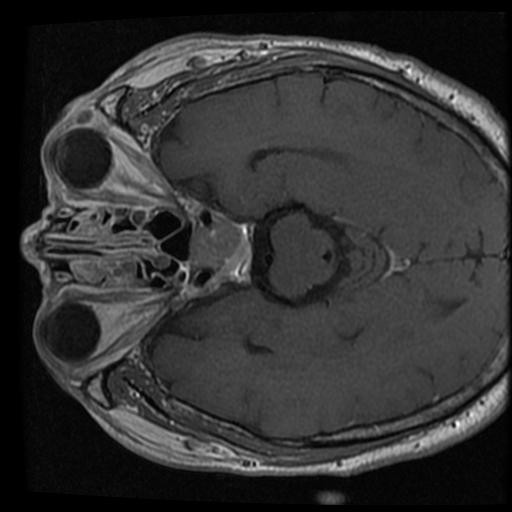pituitary tumour: (188, 221, 243, 271)
